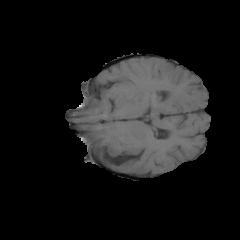glioma: (103, 89, 168, 113)
